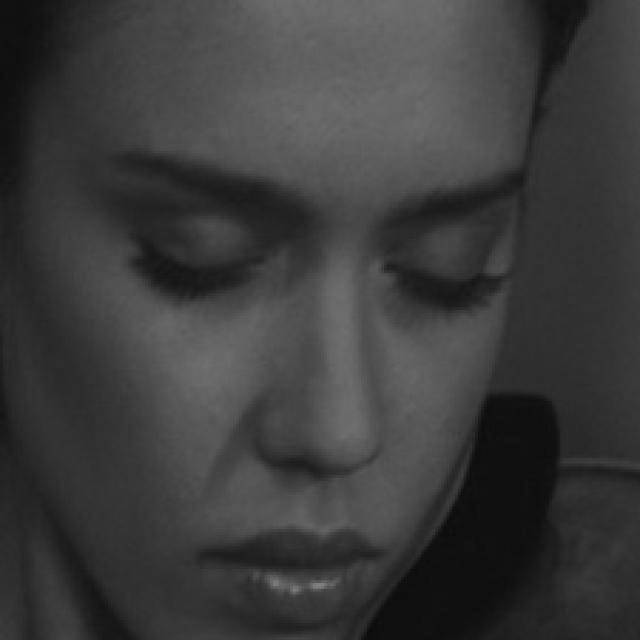real: (42, 58, 474, 618), (124, 196, 499, 322)
